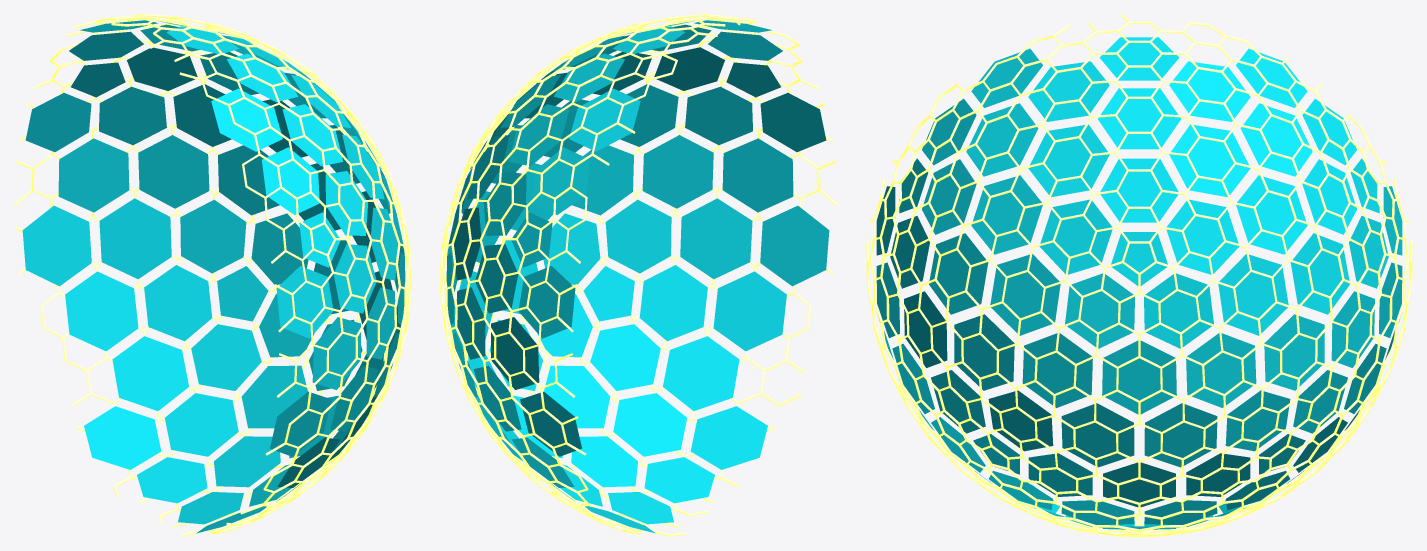
Rendered from EnergyShield.fbx.
The picture shows the model from 3 angles, left to right: view 1: azimuth 30°, elevation 25°; view 2: azimuth 150°, elevation 25°; view 3: azimuth 270°, elevation 25°; orthographic projection. The views are drawn at different scales.
Visible parts, largest first — view 1: Force_Field, Force_Field.Wire; view 2: Force_Field, Force_Field.Wire; view 3: Force_Field, Force_Field.Wire.
Part boxes in pixels (bbox=[...]): Force_Field: bbox=[22, 20, 405, 533]; Force_Field.Wire: bbox=[14, 14, 411, 536]; Force_Field: bbox=[446, 20, 829, 533]; Force_Field.Wire: bbox=[440, 14, 837, 536]; Force_Field: bbox=[876, 37, 1402, 529]; Force_Field.Wire: bbox=[866, 14, 1412, 536].
Bounding box in the file's own units: 2.18 × 4.21 × 4.2.
